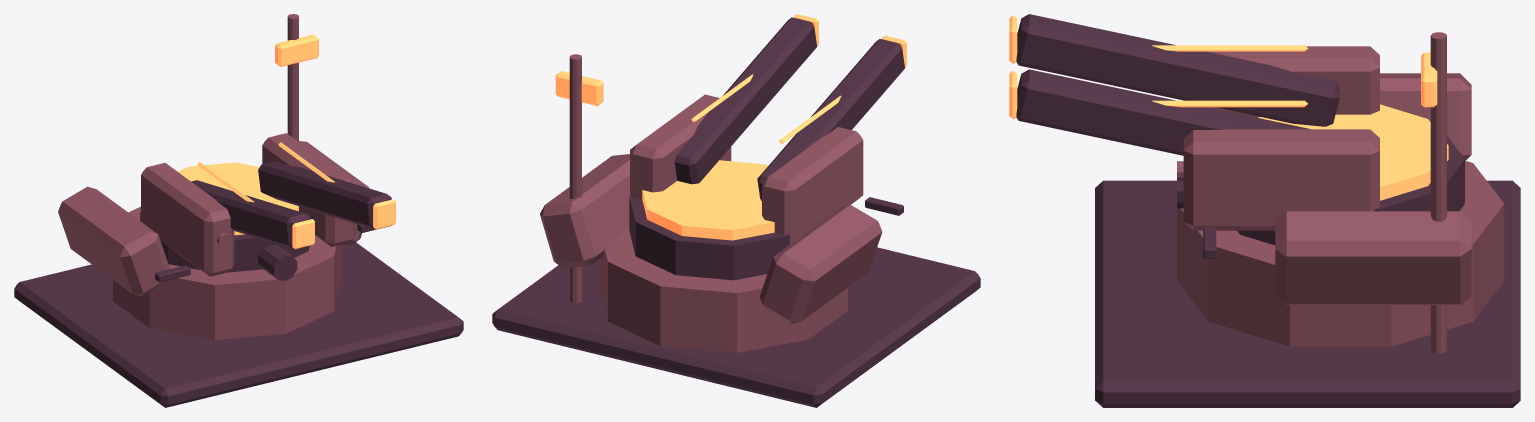
File: raid-high.glb
3 views of the same model, side by side, from view 1: azimuth 30°, elevation 25°; view 2: azimuth 150°, elevation 25°; view 3: azimuth 270°, elevation 25° (orthographic). The views are drawn at different scales.
Parts seen in each view (by area): view 1: raid-high-Parasite obsidian, raid-high-Parasite armored carapace, raid-high-Parasite plasma ceramic; view 2: raid-high-Parasite obsidian, raid-high-Parasite armored carapace, raid-high-Parasite plasma ceramic; view 3: raid-high-Parasite obsidian, raid-high-Parasite armored carapace, raid-high-Parasite plasma ceramic.
Part boxes in pixels (box(x1,y1,x2,y2)): raid-high-Parasite obsidian: box(14, 161, 463, 407); raid-high-Parasite armored carapace: box(58, 14, 369, 340); raid-high-Parasite plasma ceramic: box(178, 34, 395, 248); raid-high-Parasite obsidian: box(492, 17, 980, 407); raid-high-Parasite armored carapace: box(540, 54, 882, 352); raid-high-Parasite plasma ceramic: box(555, 14, 906, 240); raid-high-Parasite obsidian: box(1016, 14, 1520, 407); raid-high-Parasite armored carapace: box(1177, 32, 1504, 353); raid-high-Parasite plasma ceramic: box(1009, 15, 1448, 200).
Size of the model in its own units: 15 by 11.5 by 15.62.
